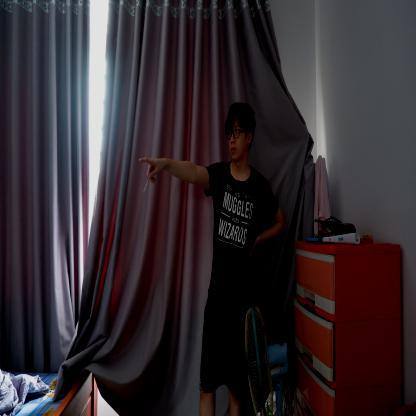cigarette: (143, 178, 150, 194)
person: (198, 100, 269, 415)
